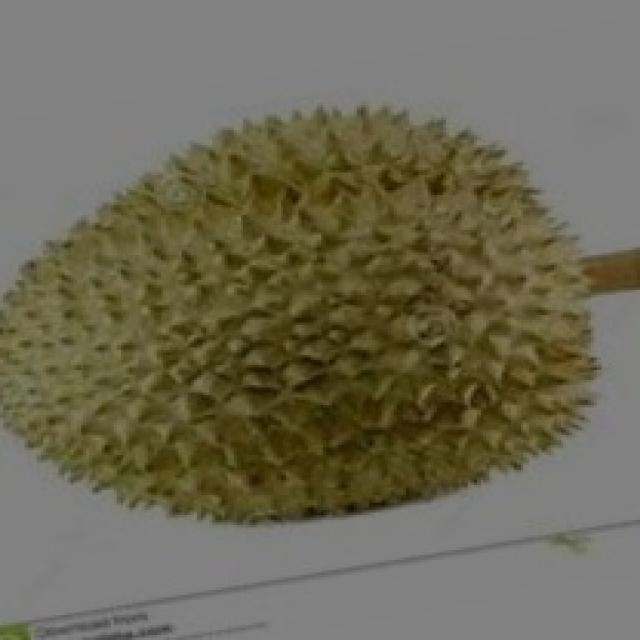fruit: (252, 143, 640, 555), (0, 185, 360, 587)
